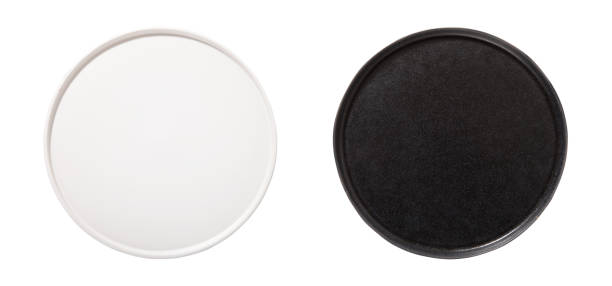daire: (39, 28, 283, 260), (332, 27, 572, 256)
